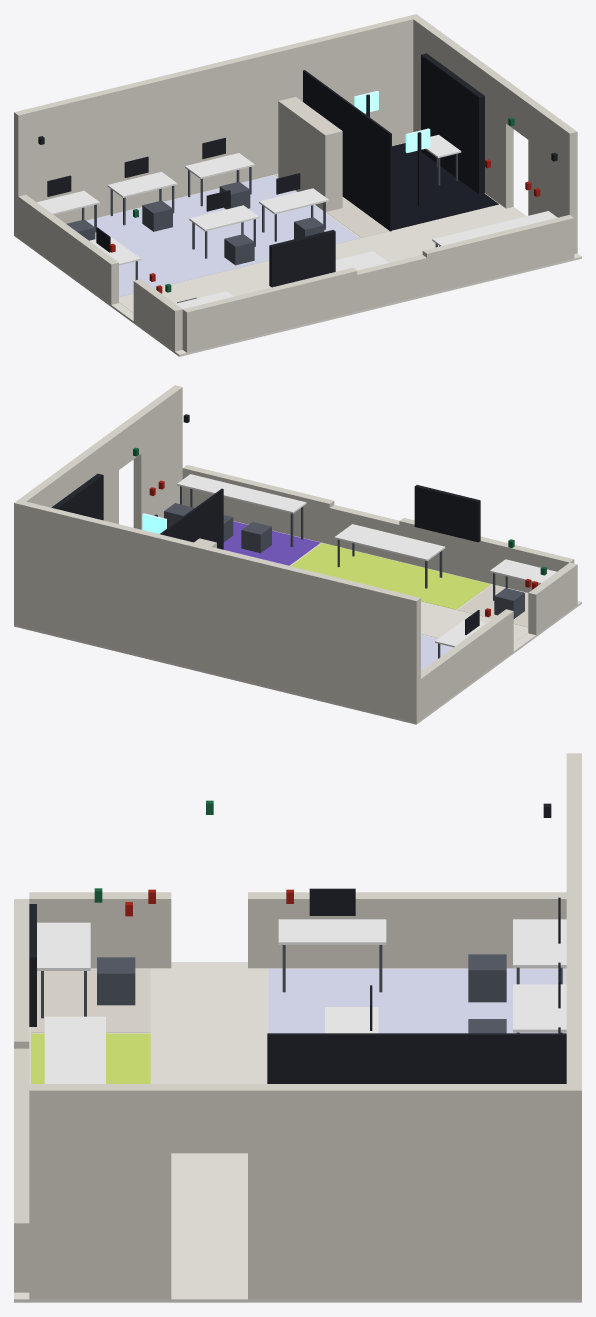
File: lab_blockout.glb
3 renders of one model, top to bottom at view 1: azimuth 30°, elevation 25°; view 2: azimuth 150°, elevation 25°; view 3: azimuth 270°, elevation 25°, orthographic. The views are drawn at different scales.
Parts seen in each view (by area): view 1: Wall_N0, Zone_CMP, Wall_S0, Wall_S2, Wall_E0, C1-WALL, Zone_SPN, C1-BD, STO-1, Wall_E2, Wall_W0, Zone_C1 (+21 smaller); view 2: Wall_N0, Wall_E2, Zone_COL, Wall_S0, Wall_W0, Wall_S2, Wall_E0, COL-D, Wall_W1, Floor, C1-WALL, COL-T_top (+14 smaller); view 3: Wall_E0, Wall_E2, Zone_SPN, Wall_W0, C1-WALL, Zone_CMP, Wall_W1, Wall_E1, Wall_N0, Floor, Zone_FAC, COL-T_top (+14 smaller).
Part boxes in pixels (x1,y1,x2,y2): Wall_N0: (22,16,413,223); Zone_CMP: (86,175,359,296); Wall_S0: (182,267,357,352); Wall_S2: (422,215,574,294); Wall_E0: (413,17,513,208); C1-WALL: (303,70,391,231); Zone_SPN: (119,205,517,312); C1-BD: (421,53,484,194); STO-1: (278,97,342,211); Wall_E2: (528,101,577,253); Wall_W0: (18,195,118,304); Zone_C1: (392,143,498,230); Wall_N0: (21,501,412,720); Wall_E2: (133,385,182,529); Zone_COL: (291,543,490,609); Wall_S0: (399,518,574,592); Wall_W0: (421,609,513,719); Wall_S2: (182,465,334,544); Wall_E0: (19,432,118,523); COL-D: (414,485,480,542); Wall_W1: (528,562,577,634); Floor: (14,521,581,724); C1-WALL: (160,488,223,549); COL-T_top: (334,524,445,561); Wall_E0: (248,1084,566,1299); Wall_E2: (29,1084,171,1299); Zone_SPN: (153,968,265,1291); Wall_W0: (248,892,566,968); C1-WALL: (267,1033,566,1083); Zone_CMP: (268,968,564,1033); Wall_W1: (29,892,171,968); Wall_E1: (171,1084,247,1153); Wall_N0: (566,759,581,1083); Floor: (14,962,581,1302); Zone_FAC: (31,968,150,1032); COL-T_top: (44,1016,105,1083).
Size of the model in its own units: 10.4 by 3.05 by 7.4.
